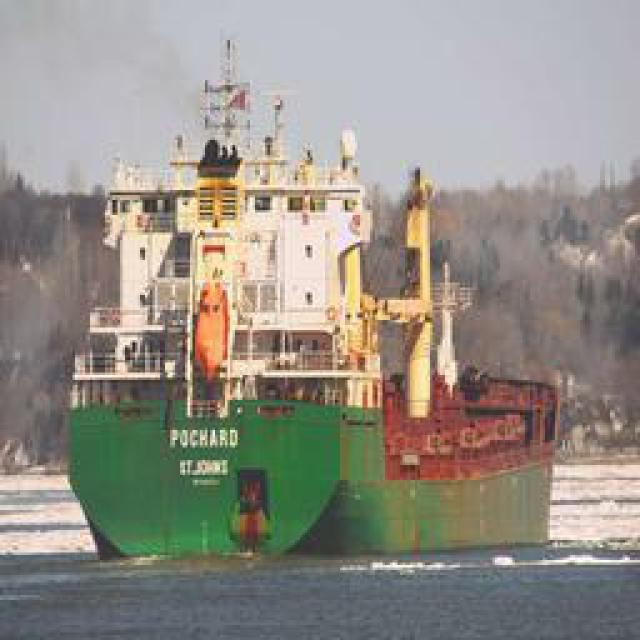Ship: (48, 35, 589, 574)
